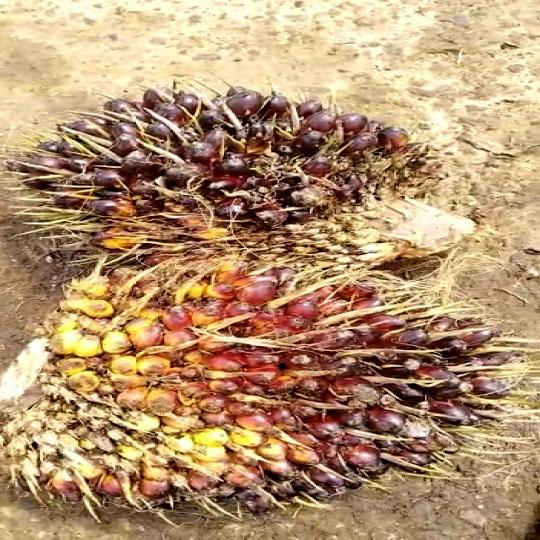kurang masak: (0, 252, 514, 511), (16, 82, 498, 290)
